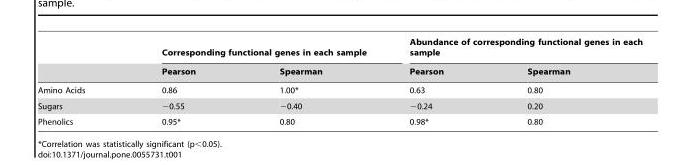table: (37, 37, 642, 125)
table column: (484, 37, 642, 125), (236, 37, 387, 125), (122, 37, 236, 125), (387, 37, 484, 125), (37, 37, 122, 125)
table column header: (37, 37, 642, 80)
table row: (37, 37, 642, 61), (37, 61, 642, 80), (37, 80, 642, 97), (37, 97, 642, 113), (37, 113, 642, 125)
table spanning cell: (122, 37, 387, 61), (387, 37, 642, 61)
